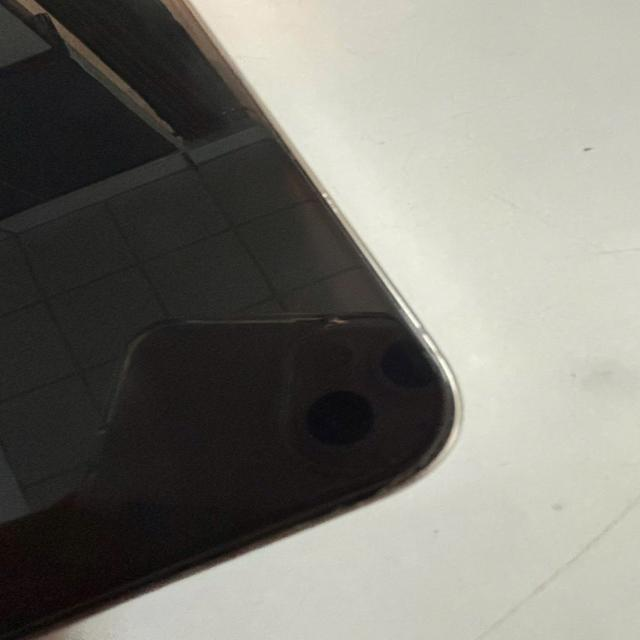scratch: (122, 581, 167, 601), (389, 465, 425, 485), (180, 562, 219, 579), (322, 190, 343, 219), (255, 528, 298, 542), (356, 488, 386, 506), (313, 507, 340, 516)
